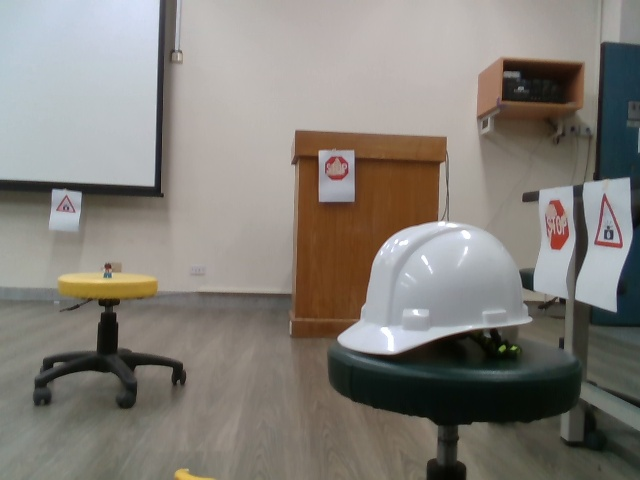camera: (592, 194, 624, 255)
helmet: (335, 216, 536, 360)
stop: (539, 193, 574, 255)
